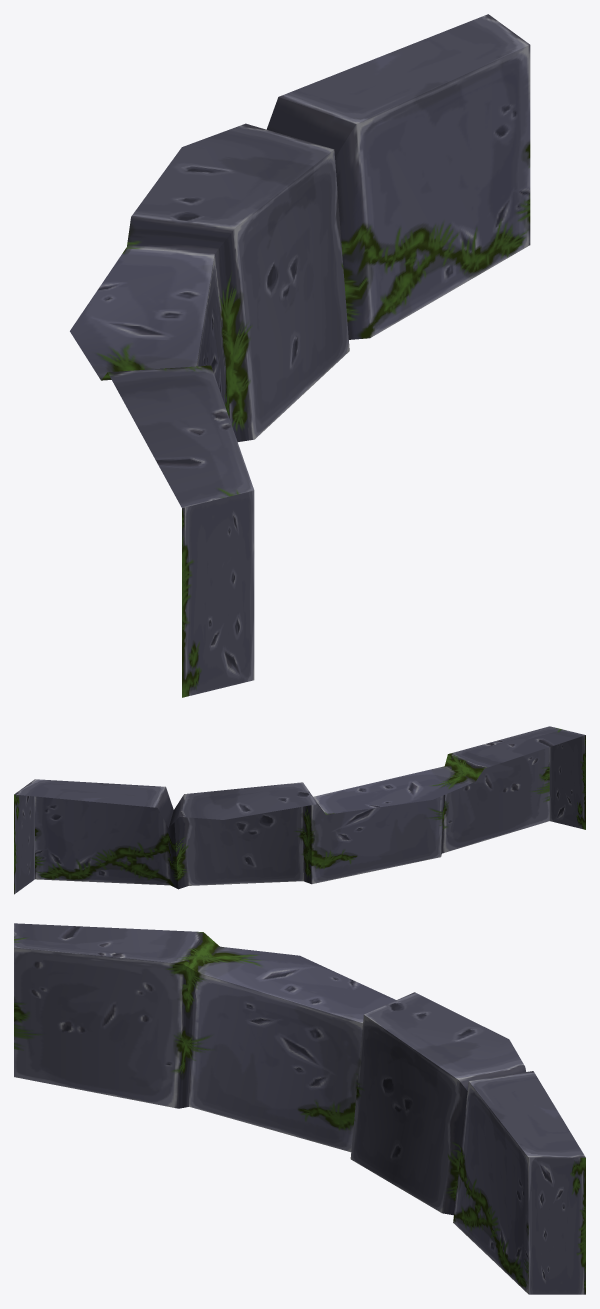
The model's file is MOD_WallTrim_01_O_concave_2.fbx.
The picture shows the model from 3 angles, top to bottom: view 1: azimuth 30°, elevation 25°; view 2: azimuth 150°, elevation 25°; view 3: azimuth 270°, elevation 25°; orthographic projection. The views are drawn at different scales.
Parts seen in each view (by area): view 1: MOD_WallTrim_01_O_concave_2; view 2: MOD_WallTrim_01_O_concave_2; view 3: MOD_WallTrim_01_O_concave_2.
Part boxes in pixels (<box>): MOD_WallTrim_01_O_concave_2: <box>70,14,530,697</box>; MOD_WallTrim_01_O_concave_2: <box>14,726,585,894</box>; MOD_WallTrim_01_O_concave_2: <box>14,923,585,1294</box>.
Size of the model in its own units: 200 by 54.92 by 200.
